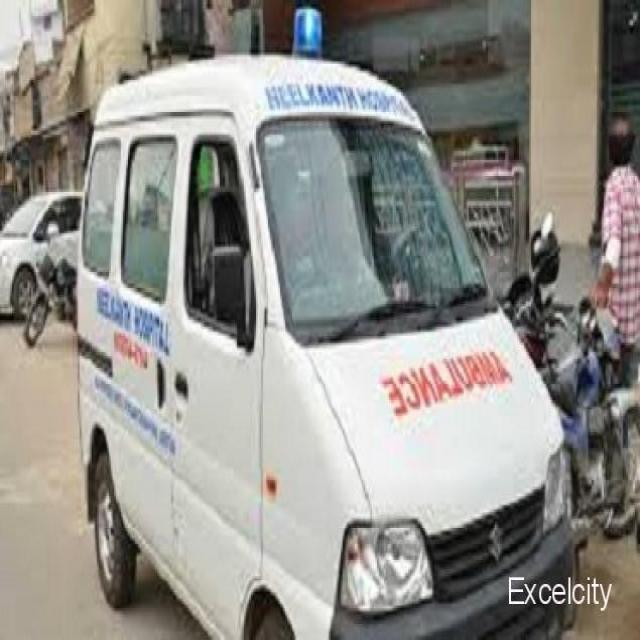ambulance: (74, 26, 596, 638)
